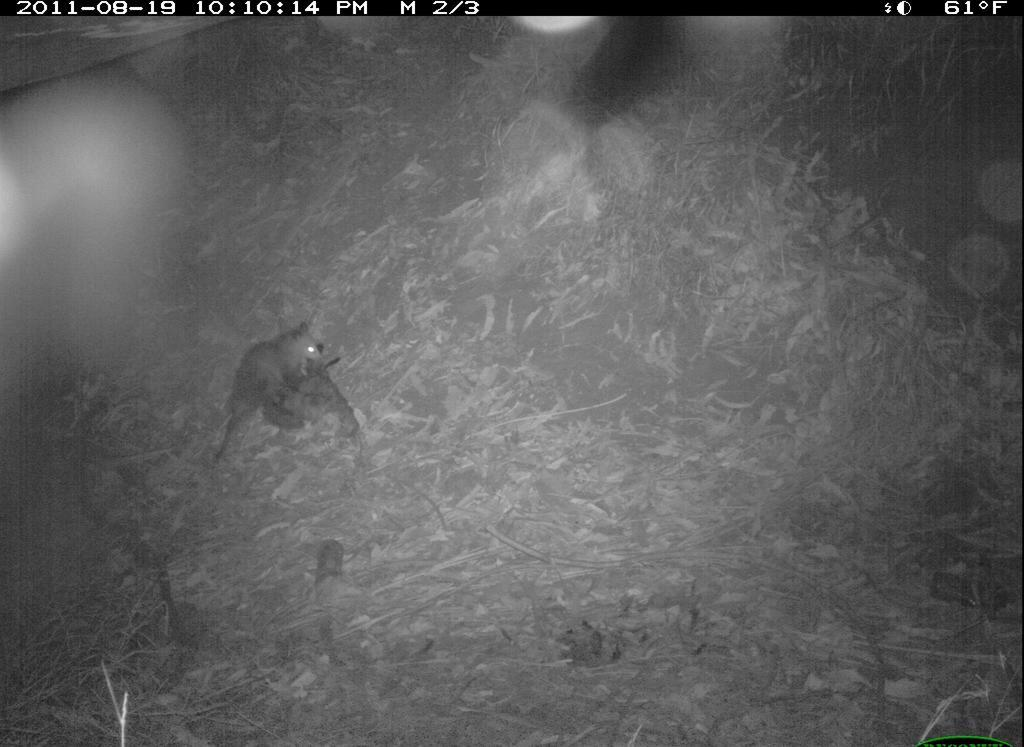opossum: (212, 321, 333, 446)
